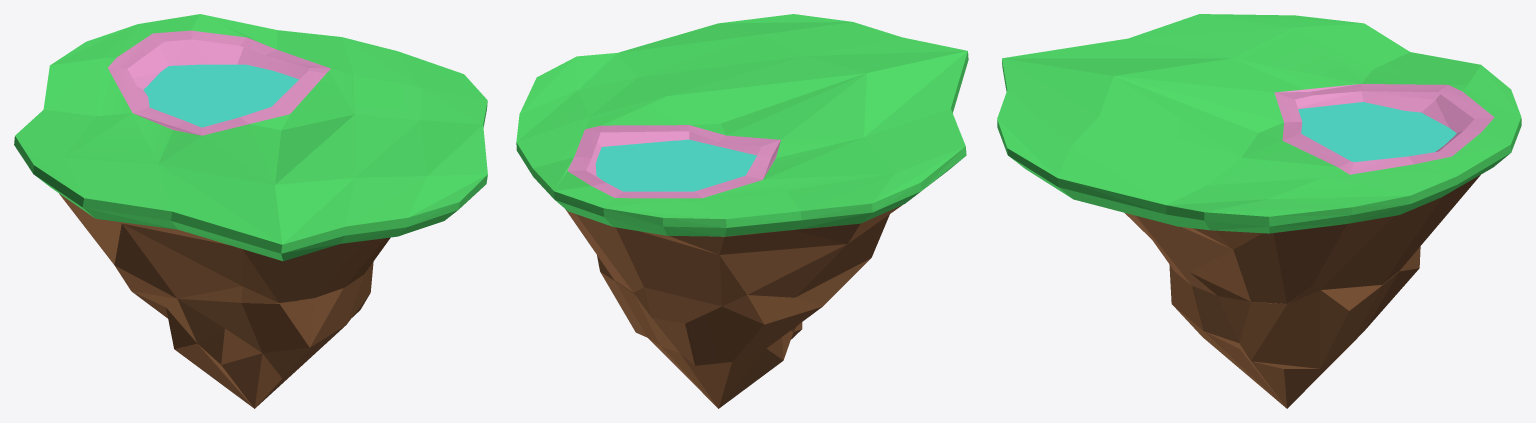
Rendered from world-oasis-organic.fbx.
3 views of the same model, side by side, from view 1: azimuth 30°, elevation 25°; view 2: azimuth 150°, elevation 25°; view 3: azimuth 270°, elevation 25° (orthographic). The views are drawn at different scales.
Parts seen in each view (by area): view 1: world-oasis.009, world-oasis.013; view 2: world-oasis.009, world-oasis.013; view 3: world-oasis.009, world-oasis.013.
Part boxes in pixels (x1,y1,x2,y2): world-oasis.009: (14, 14, 487, 408); world-oasis.013: (143, 64, 298, 127); world-oasis.009: (516, 14, 968, 408); world-oasis.013: (595, 139, 756, 191); world-oasis.009: (997, 14, 1521, 408); world-oasis.013: (1298, 102, 1456, 161).
Size of the model in its own units: 2156 by 1505 by 2382.
